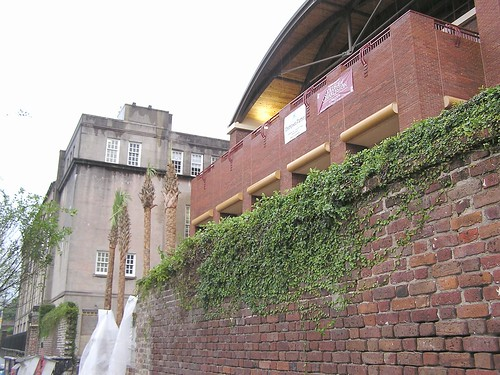building: (190, 1, 500, 375), (14, 114, 223, 375)
sky: (1, 1, 242, 128)
